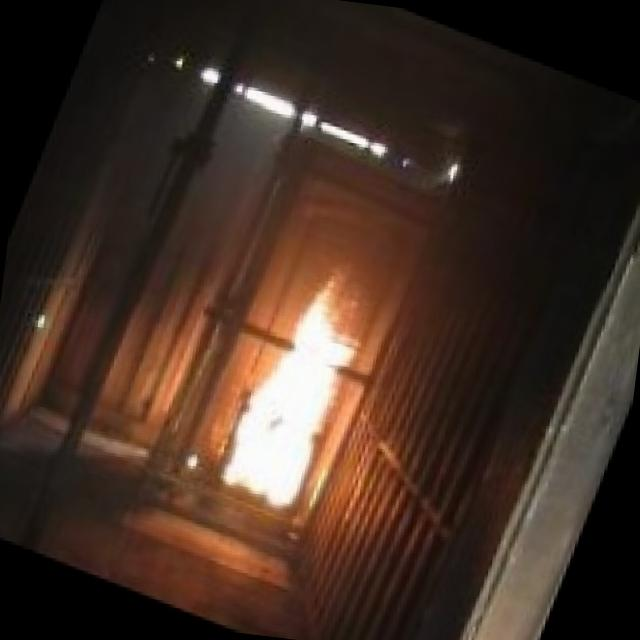fire: (191, 236, 398, 538)
